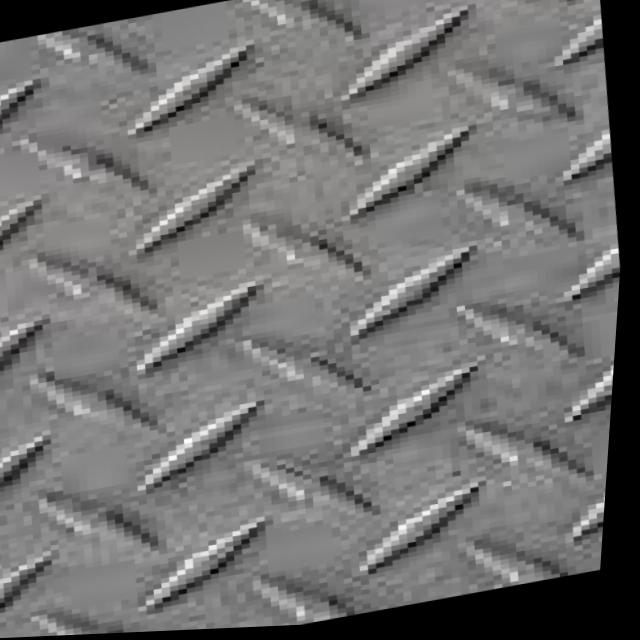metal-plates: (1, 1, 625, 640)
